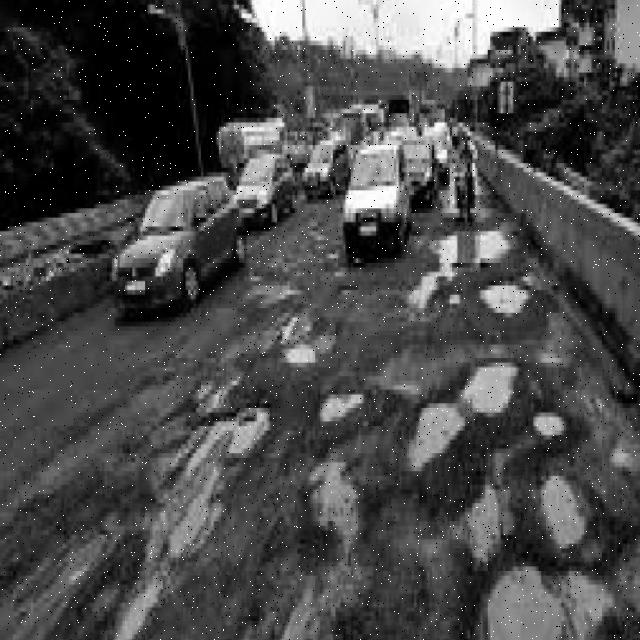pothole: (485, 530, 602, 640), (409, 363, 518, 471), (528, 476, 587, 553), (470, 489, 503, 562)
